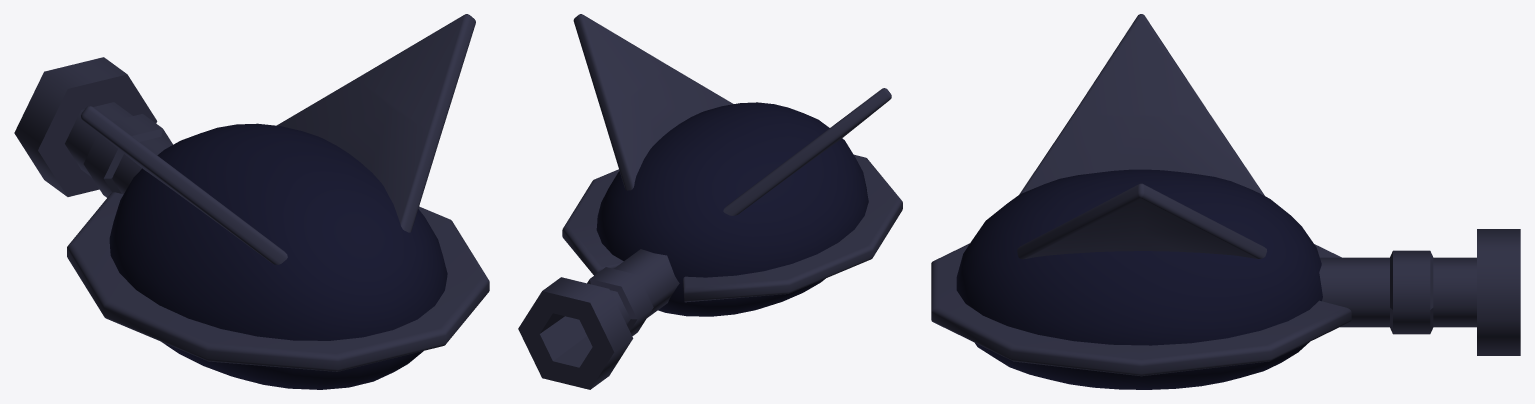
Rendered from PlayerMesh.FBX.
3 views of the same model, side by side, from view 1: azimuth 30°, elevation 25°; view 2: azimuth 150°, elevation 25°; view 3: azimuth 270°, elevation 25° (orthographic). The views are drawn at different scales.
Visible parts, largest first — view 1: Sphere03, ChamferCyl01, ChamferBox01, Cylinder01, ChamferBox02; view 2: Sphere03, Cylinder01, ChamferBox01, ChamferCyl01, ChamferBox02; view 3: Sphere03, ChamferBox02, Cylinder01, ChamferCyl01, ChamferBox01.
Boxes of the visible parts, left/top/right/bottom form: Sphere03: left=109, top=123, right=447, bottom=389; ChamferCyl01: left=67, top=192, right=489, bottom=371; ChamferBox01: left=277, top=14, right=475, bottom=232; Cylinder01: left=14, top=57, right=172, bottom=197; ChamferBox02: left=81, top=106, right=287, bottom=264; Sphere03: left=596, top=102, right=868, bottom=316; Cylinder01: left=518, top=249, right=679, bottom=389; ChamferBox01: left=573, top=14, right=733, bottom=190; ChamferCyl01: left=562, top=154, right=902, bottom=302; ChamferBox02: left=723, top=88, right=891, bottom=215; Sphere03: left=956, top=169, right=1322, bottom=389; ChamferBox02: left=1019, top=14, right=1264, bottom=195; Cylinder01: left=1319, top=229, right=1520, bottom=355; ChamferCyl01: left=931, top=243, right=1351, bottom=376; ChamferBox01: left=1017, top=183, right=1266, bottom=259.
Size of the model in its own units: 130 by 90.56 by 183.
